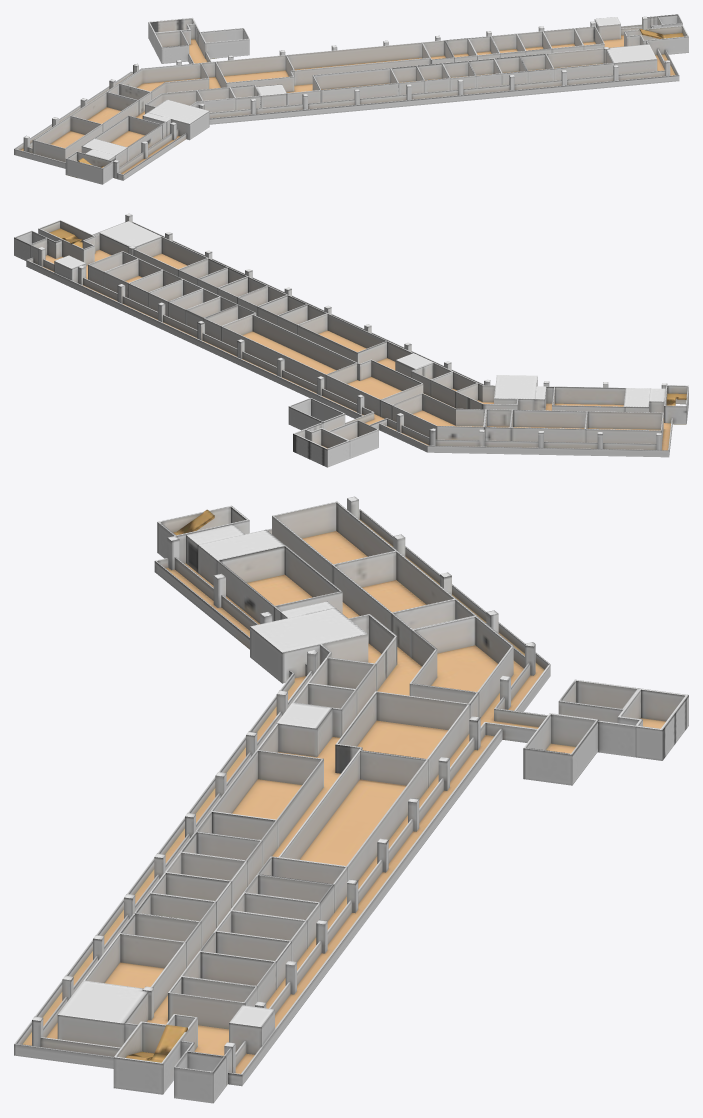
3 views of the same model, one above another, from view 1: azimuth 30°, elevation 25°; view 2: azimuth 150°, elevation 25°; view 3: azimuth 270°, elevation 25° (orthographic). The views are drawn at different scales.
Visible parts, largest first — view 1: Rooms.1, Extra_wall.1, Misc.1, Cap_2, Permanent_columns.1; view 2: Rooms.1, Extra_wall.1, Misc.1, Cap_2, Permanent_columns.1; view 3: Rooms.1, Extra_wall.1, Cap_2, Misc.1, Permanent_columns.1.
Boxes of the visible parts, x1,y1,x2,y2 form: Rooms.1: (32, 18, 613, 162); Extra_wall.1: (14, 16, 688, 184); Misc.1: (78, 14, 683, 167); Cap_2: (20, 35, 675, 174); Permanent_columns.1: (23, 16, 670, 178); Rooms.1: (88, 236, 663, 467); Extra_wall.1: (26, 220, 688, 457); Misc.1: (14, 221, 686, 417); Cap_2: (43, 250, 670, 450); Permanent_columns.1: (38, 213, 667, 450); Rooms.1: (83, 501, 688, 1029); Extra_wall.1: (14, 505, 636, 1094); Cap_2: (23, 519, 665, 1073); Misc.1: (57, 509, 365, 1103); Permanent_columns.1: (32, 496, 535, 1072).
Size of the model in its own units: 138 by 3.72 by 67.73.
1 material, 1 textured.
